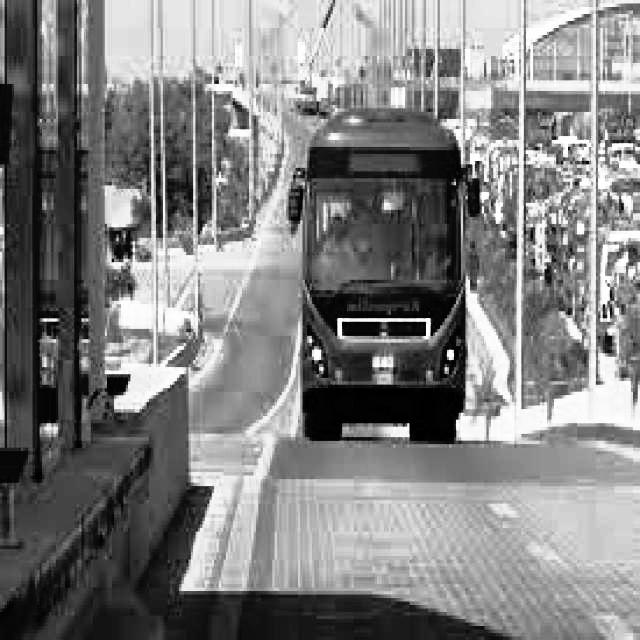Bus: (282, 94, 483, 474)
